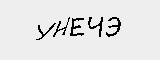Е: (71, 15, 86, 38)
Н: (51, 15, 69, 39)
У: (32, 22, 58, 41)
Ч: (88, 12, 105, 39)
Э: (104, 13, 123, 40)
